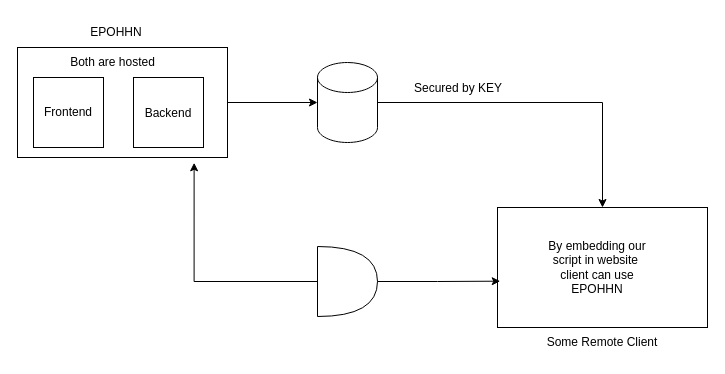
This 725x374 diagram has some shape labels left out. The box of each missing label's shape, as (x1, y1, x2, y2) in pixels:
KEY: (316, 246, 378, 316)
SDK (Script): (316, 62, 378, 142)
